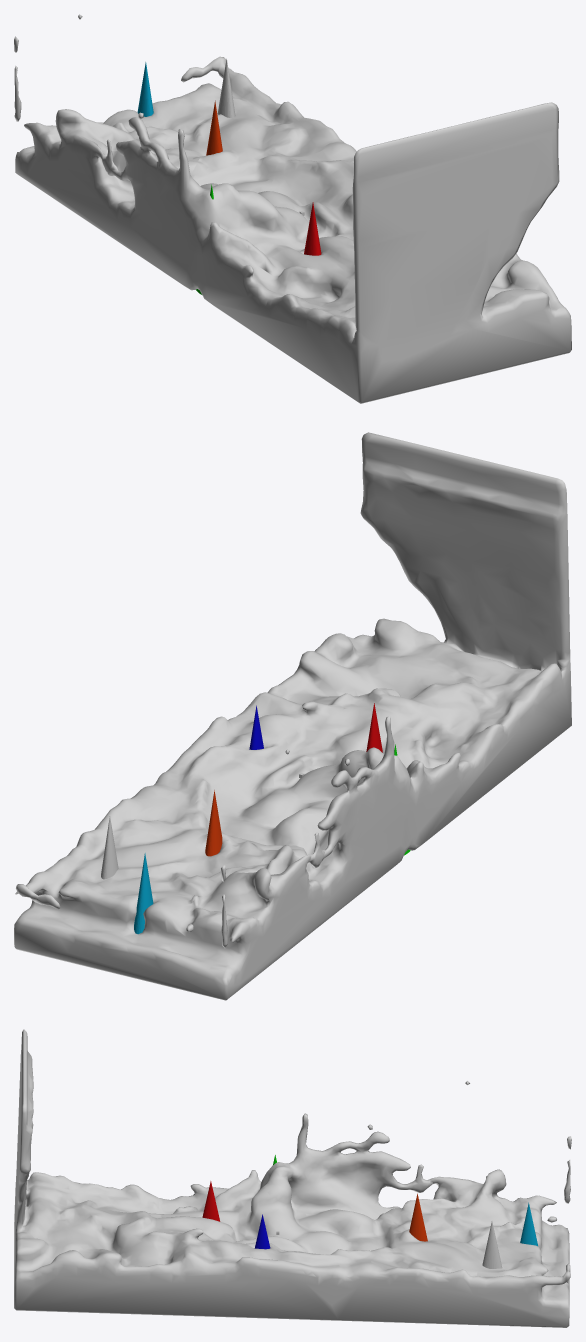
3 views of the same model, one above another, from view 1: azimuth 30°, elevation 25°; view 2: azimuth 150°, elevation 25°; view 3: azimuth 270°, elevation 25° (orthographic). The views are drawn at different scales.
Parts seen in each view (by area): view 1: Liquid_Domain, 円錐, 円錐.001, 円錐.005, 円錐.004; view 2: Liquid_Domain, 円錐.005; view 3: Liquid_Domain, 円錐, 円錐.004, 円錐.005.
Boxes of the visible parts, left/top/right/bottom form: Liquid_Domain: left=14, top=14, right=571, bottom=403; 円錐: left=217, top=58, right=235, bottom=117; 円錐.001: left=304, top=202, right=321, bottom=255; 円錐.005: left=137, top=62, right=153, bottom=116; 円錐.004: left=206, top=100, right=222, bottom=155; Liquid_Domain: left=14, top=432, right=571, bottom=1000; 円錐.005: left=134, top=853, right=153, bottom=934; Liquid_Domain: left=14, top=1029, right=571, bottom=1327; 円錐: left=482, top=1221, right=502, bottom=1268; 円錐.004: left=409, top=1193, right=427, bottom=1241; 円錐.005: left=520, top=1202, right=537, bottom=1246.
Bounding box in the file's own units: 129 × 158 × 363.
